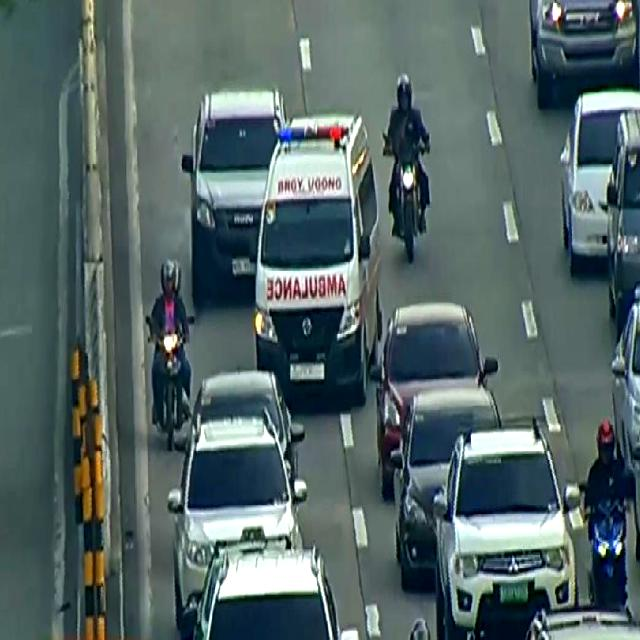emergency: (254, 101, 382, 412)
